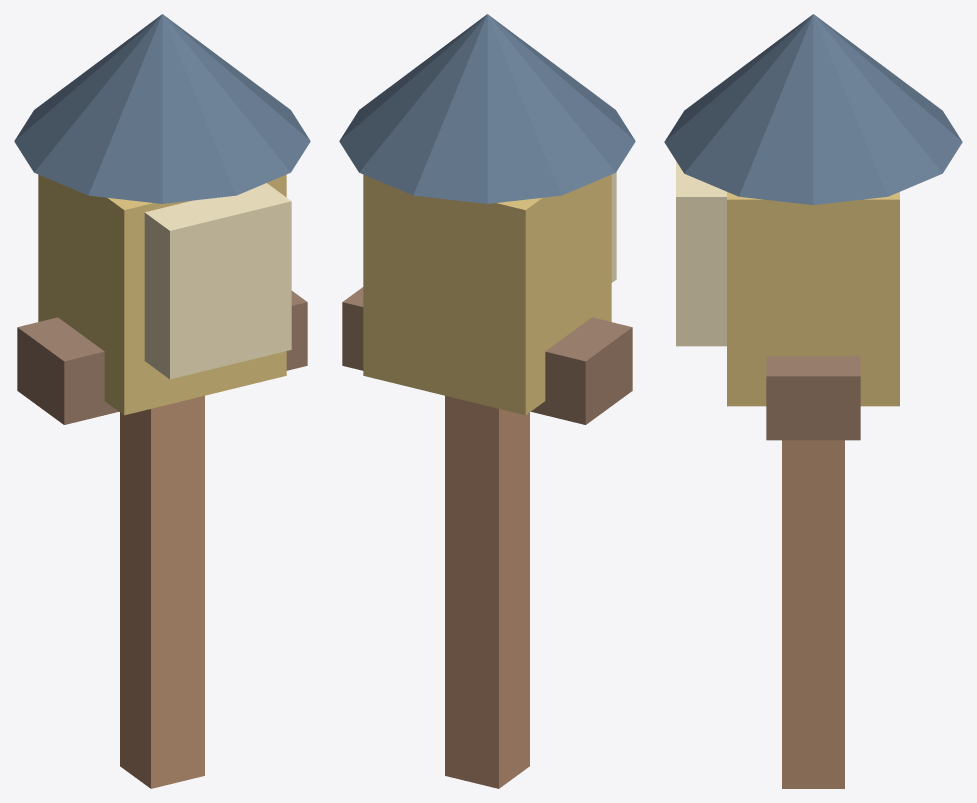
The model's file is Lantern_Wall.glb.
3 renders of one model, left to right at view 1: azimuth 30°, elevation 25°; view 2: azimuth 150°, elevation 25°; view 3: azimuth 270°, elevation 25°, orthographic.
Parts seen in each view (by area): view 1: roof_4, stand_0, glow_3, lantern_2, rail_1; view 2: lantern_2, roof_4, stand_0, rail_1, glow_3; view 3: roof_4, lantern_2, stand_0, glow_3, rail_1.
Boxes of the visible parts, x1,y1,x2,y2 form: roof_4: [14, 14, 310, 203]; stand_0: [120, 396, 204, 788]; glow_3: [144, 183, 291, 379]; lantern_2: [38, 174, 286, 415]; rail_1: [17, 291, 307, 424]; lantern_2: [363, 174, 611, 415]; roof_4: [339, 14, 635, 203]; stand_0: [445, 396, 529, 788]; rail_1: [342, 287, 632, 424]; glow_3: [611, 172, 616, 282]; roof_4: [664, 14, 962, 205]; lantern_2: [727, 192, 899, 406]; stand_0: [782, 440, 844, 788]; glow_3: [676, 161, 726, 346]; rail_1: [766, 356, 860, 440].
Size of the model in its own units: 0.38 by 1.07 by 0.38.
